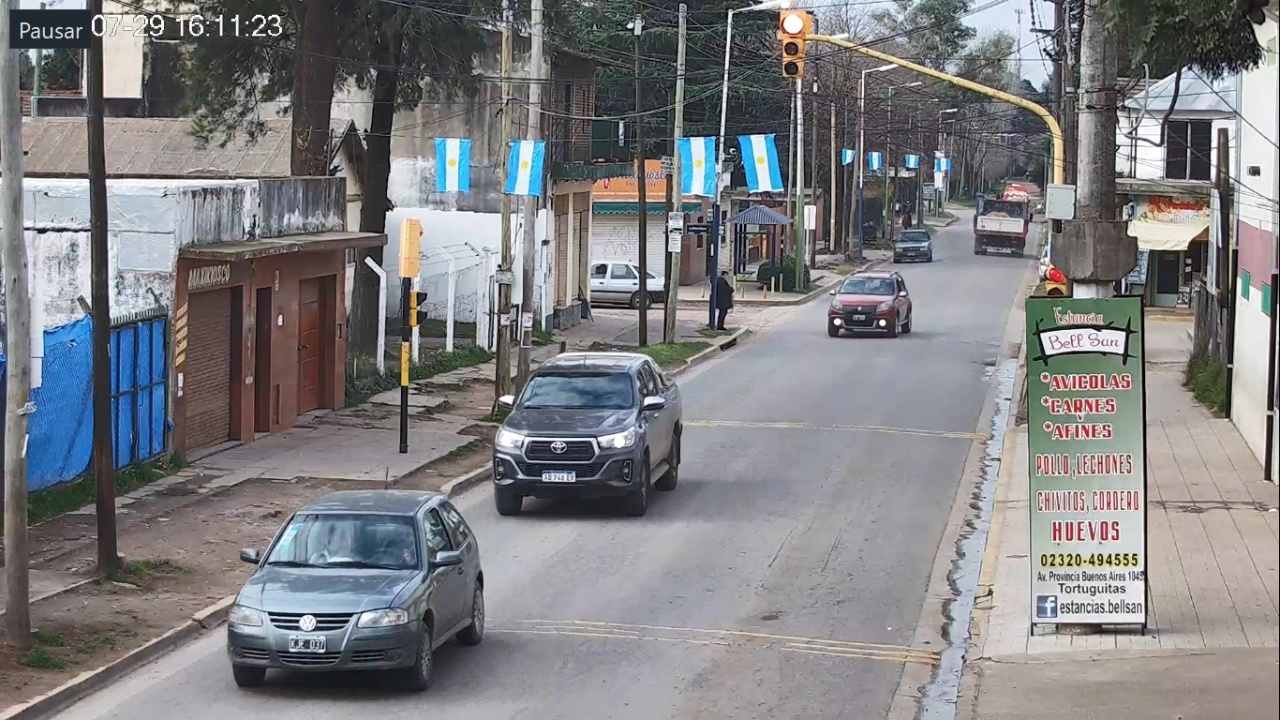front car: (228, 489, 485, 692), (492, 351, 684, 516)
traffic light: (782, 12, 804, 76)
truck: (974, 196, 1033, 255)
